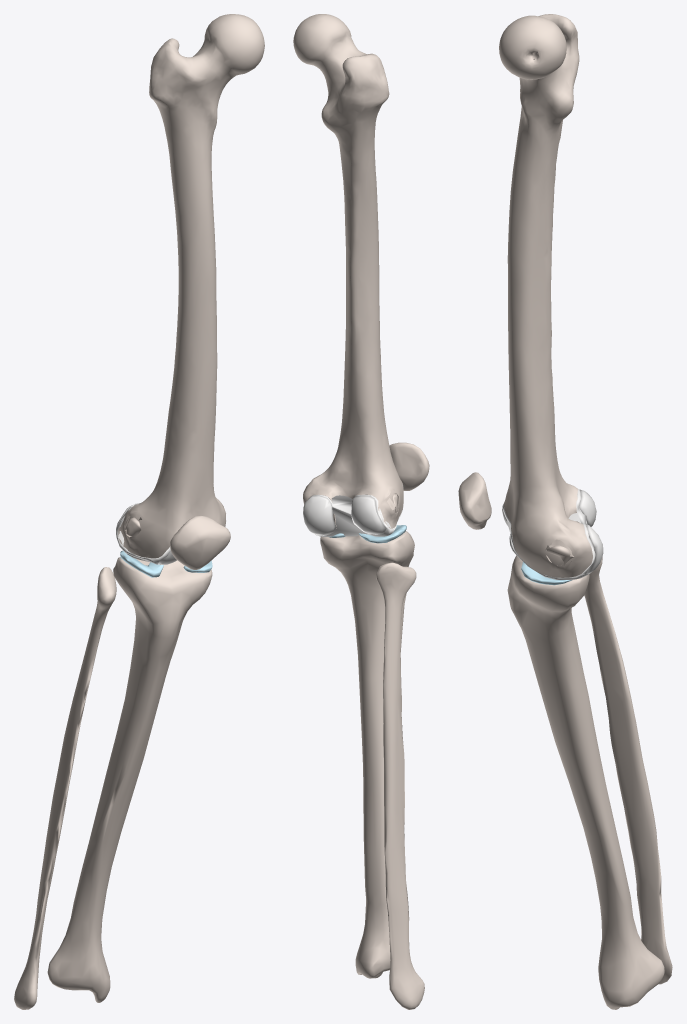
File: vh_m_knee_r-40.glb
3 renders of one model, left to right at view 1: azimuth 30°, elevation 25°; view 2: azimuth 150°, elevation 25°; view 3: azimuth 270°, elevation 25°, orthographic. The views are drawn at different scales.
Visible parts, largest first — view 1: VH_M_femur_R, VH_M_tibia_R, VH_M_fibula_R, VH_M_patella_R, VH_M_meniscus_R; view 2: VH_M_femur_R, VH_M_tibia_R, VH_M_fibula_R, VH_M_patella_R, VH_M_articular_cartilage_of_knee_R, VH_M_medial_condyle_of_right_femur_inf, VH_M_lateral_condyle_of_femur_inf_R, VH_M_meniscus_R; view 3: VH_M_femur_R, VH_M_tibia_R, VH_M_fibula_R, VH_M_patella_R, VH_M_articular_cartilage_of_knee_R.
Boxes of the visible parts, bbox=[...] form: VH_M_femur_R: bbox=[118, 14, 264, 558]; VH_M_tibia_R: bbox=[47, 557, 212, 1002]; VH_M_fibula_R: bbox=[14, 567, 116, 1009]; VH_M_patella_R: bbox=[170, 515, 230, 569]; VH_M_meniscus_R: bbox=[120, 550, 212, 577]; VH_M_femur_R: bbox=[293, 14, 403, 528]; VH_M_tibia_R: bbox=[320, 531, 414, 978]; VH_M_fibula_R: bbox=[376, 562, 424, 1009]; VH_M_patella_R: bbox=[389, 442, 429, 490]; VH_M_articular_cartilage_of_knee_R: bbox=[308, 484, 403, 537]; VH_M_medial_condyle_of_right_femur_inf: bbox=[303, 495, 335, 535]; VH_M_lateral_condyle_of_femur_inf_R: bbox=[351, 495, 386, 534]; VH_M_meniscus_R: bbox=[329, 525, 406, 543]; VH_M_femur_R: bbox=[499, 14, 592, 577]; VH_M_tibia_R: bbox=[507, 555, 664, 1009]; VH_M_fibula_R: bbox=[584, 556, 672, 984]; VH_M_patella_R: bbox=[458, 472, 491, 529]; VH_M_articular_cartilage_of_knee_R: bbox=[502, 489, 595, 579].
Bounding box in the file's own units: 0.1735 × 0.8875 × 0.1646.
